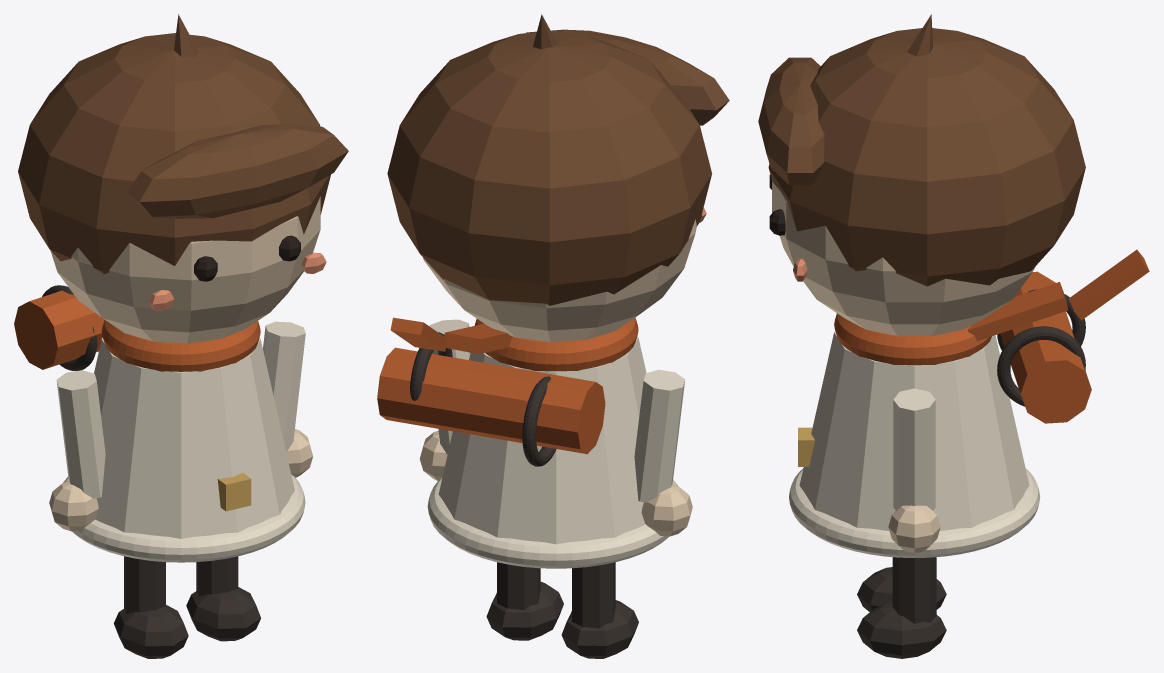
File: traveler.glb
3 views of the same model, side by side, from view 1: azimuth 30°, elevation 25°; view 2: azimuth 150°, elevation 25°; view 3: azimuth 270°, elevation 25° (orthographic). The views are drawn at different scales.
Visible parts, largest first — view 1: Sphere.005, Cone, Sphere.004, Sphere.006, Torus, Cylinder.005, Cylinder.003, Torus.001, Cylinder.004, Sphere.001, Sphere, Cylinder (+7 smaller); view 2: Sphere.005, Cone, Cylinder.005, Sphere.004, Torus, Cylinder.003, Torus.001, Sphere.006, Cylinder, Sphere.001, Sphere, Sphere.002 (+7 smaller); view 3: Sphere.005, Cone, Sphere.004, Sphere.006, Torus, Cylinder.005, Cylinder.004, Torus.001, Sphere.001, Cylinder.001, Cube.001, Cube.002 (+5 smaller).
Part boxes in pixels (x1,y1,x2,y2): Sphere.005: [18, 33, 330, 274]; Cone: [94, 338, 294, 538]; Sphere.004: [50, 196, 320, 343]; Sphere.006: [126, 124, 348, 218]; Torus: [63, 474, 305, 562]; Cylinder.005: [14, 290, 104, 369]; Cylinder.003: [56, 370, 105, 498]; Torus.001: [101, 320, 260, 371]; Cylinder.004: [263, 321, 305, 451]; Sphere.001: [186, 587, 260, 641]; Sphere: [114, 605, 188, 658]; Cylinder: [124, 556, 165, 613]; Sphere.005: [387, 30, 712, 305]; Cone: [438, 336, 646, 544]; Cylinder.005: [377, 347, 605, 454]; Sphere.004: [423, 219, 696, 342]; Torus: [427, 478, 678, 568]; Cylinder.003: [634, 369, 685, 502]; Torus.001: [474, 317, 638, 371]; Sphere.006: [526, 29, 729, 125]; Cylinder: [572, 562, 615, 628]; Sphere.001: [486, 582, 563, 640]; Sphere: [561, 600, 638, 658]; Sphere.002: [641, 484, 692, 536]; Sphere.005: [768, 28, 1085, 286]; Cone: [799, 331, 1029, 530]; Sphere.004: [772, 181, 1035, 335]; Sphere.006: [758, 57, 824, 185]; Torus: [789, 468, 1040, 557]; Cylinder.005: [1000, 271, 1091, 423]; Cylinder.004: [893, 388, 935, 510]; Torus.001: [834, 313, 991, 365]; Sphere.001: [857, 602, 946, 658]; Cylinder.001: [892, 557, 936, 623]; Cube.001: [967, 282, 1068, 341]; Cube.002: [1069, 249, 1149, 320].
Bounding box in the file's own units: 0.75 × 1.63 × 0.9249.
